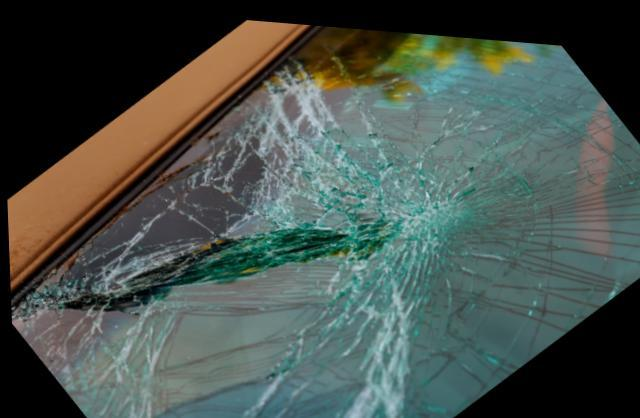glass shatter: (9, 21, 640, 418)
